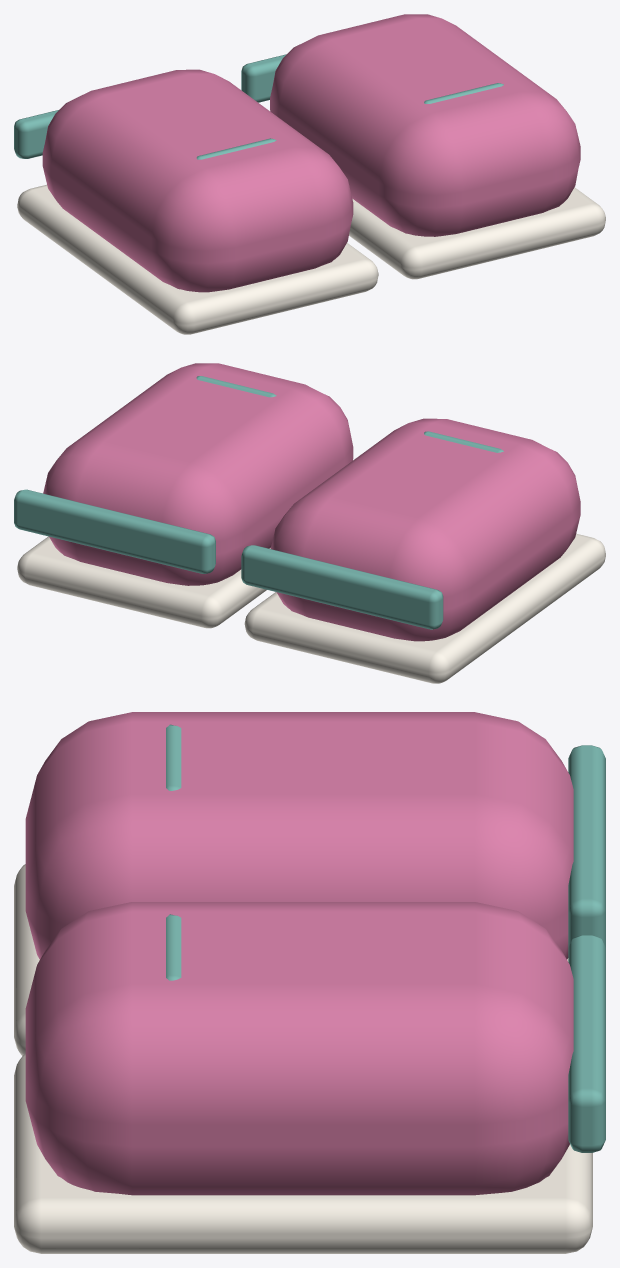
File: hi_tech_sneakers.glb
3 renders of one model, top to bottom at view 1: azimuth 30°, elevation 25°; view 2: azimuth 150°, elevation 25°; view 3: azimuth 270°, elevation 25°, orthographic. The views are drawn at different scales.
Parts seen in each view (by area): view 1: hi_tech_sneakers_LegL, hi_tech_sneakers_LegR; view 2: hi_tech_sneakers_LegL, hi_tech_sneakers_LegR; view 3: hi_tech_sneakers_LegR, hi_tech_sneakers_LegL.
Boxes of the visible parts, left/top/right/bottom form: hi_tech_sneakers_LegL: left=14, top=69, right=378, bottom=334; hi_tech_sneakers_LegR: left=241, top=14, right=605, bottom=279; hi_tech_sneakers_LegL: left=241, top=418, right=605, bottom=683; hi_tech_sneakers_LegR: left=14, top=363, right=353, bottom=628; hi_tech_sneakers_LegR: left=14, top=902, right=605, bottom=1253; hi_tech_sneakers_LegL: left=14, top=712, right=605, bottom=1055.
Bounding box in the file's own units: 0.36 × 0.1087 × 0.2505.
